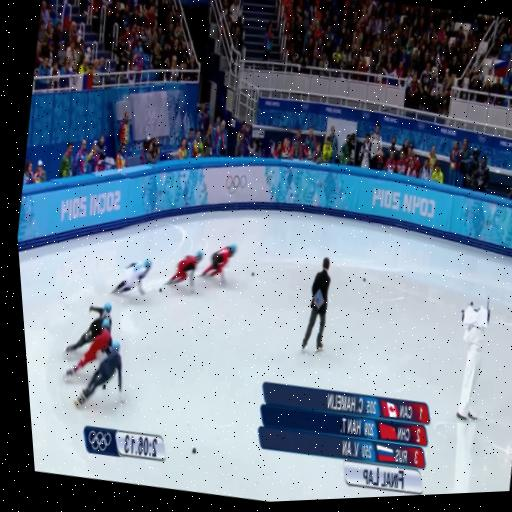Skater: (74, 342, 122, 407), (65, 318, 111, 376), (65, 302, 110, 353), (165, 251, 202, 292), (111, 259, 150, 295), (201, 244, 236, 281)
